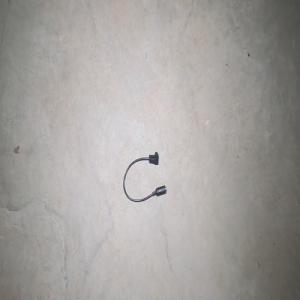Wire: (123, 152, 166, 202)
